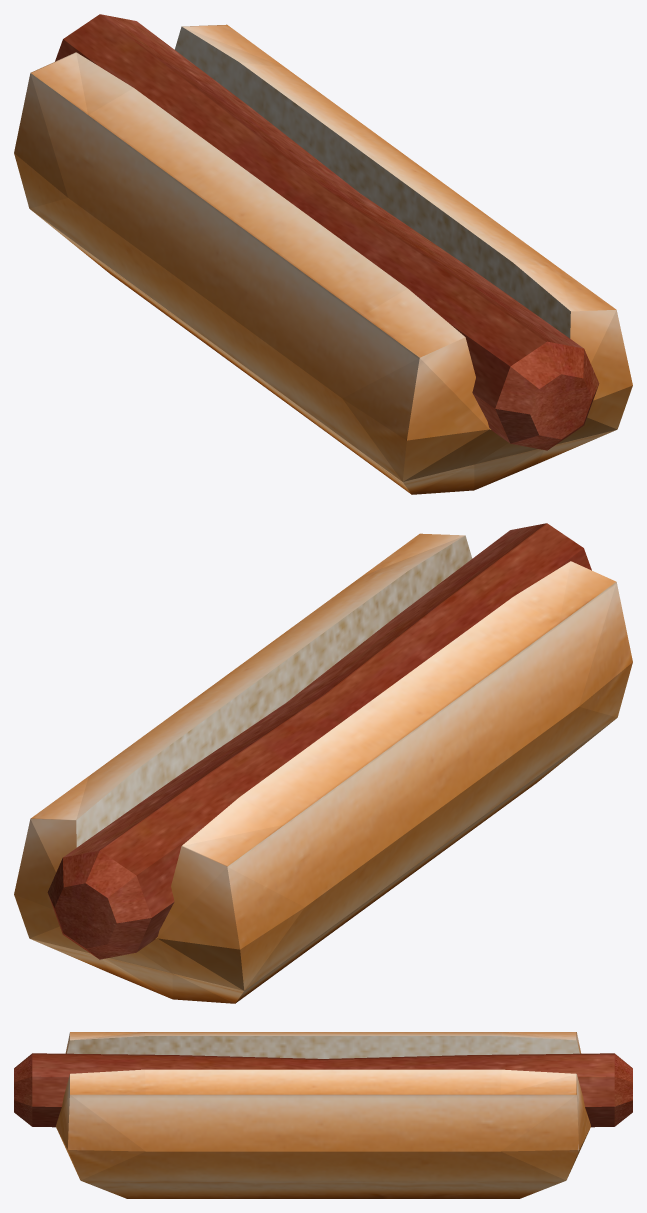
The model's file is hot-dog.glb.
3 renders of one model, top to bottom at view 1: azimuth 30°, elevation 25°; view 2: azimuth 150°, elevation 25°; view 3: azimuth 270°, elevation 25°, orthographic. The views are drawn at different scales.
Visible parts, largest first — view 1: Bun, Wiener; view 2: Bun, Wiener; view 3: Bun, Wiener.
Part boxes in pixels (x1,y1,x2,y2): Bun: [14, 24, 632, 494]; Wiener: [55, 14, 599, 450]; Bun: [14, 533, 632, 1003]; Wiener: [47, 523, 591, 959]; Bun: [56, 1032, 590, 1198]; Wiener: [14, 1053, 632, 1127].
Size of the model in its own units: 1.34 by 1.11 by 4.65.
2 materials, 2 textured.
